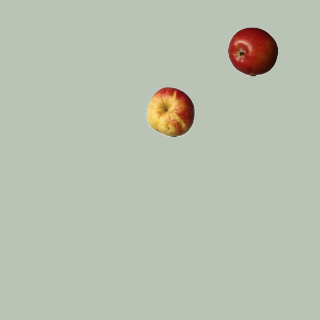Apple Braeburn: (227, 26, 277, 76)
Apple Red Yellow 1: (145, 86, 195, 136)
